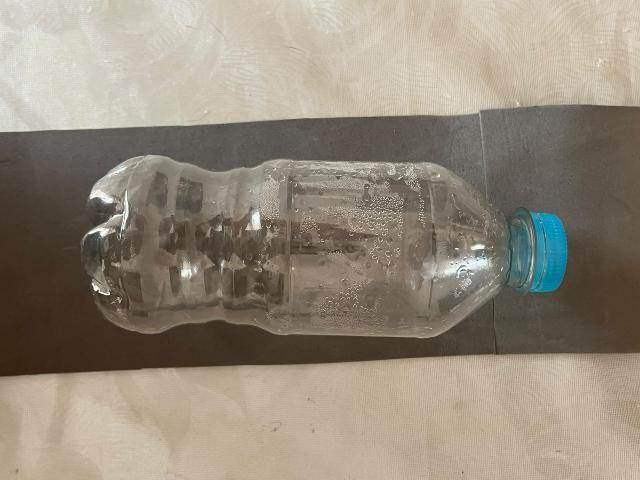PET: (53, 116, 599, 372)
